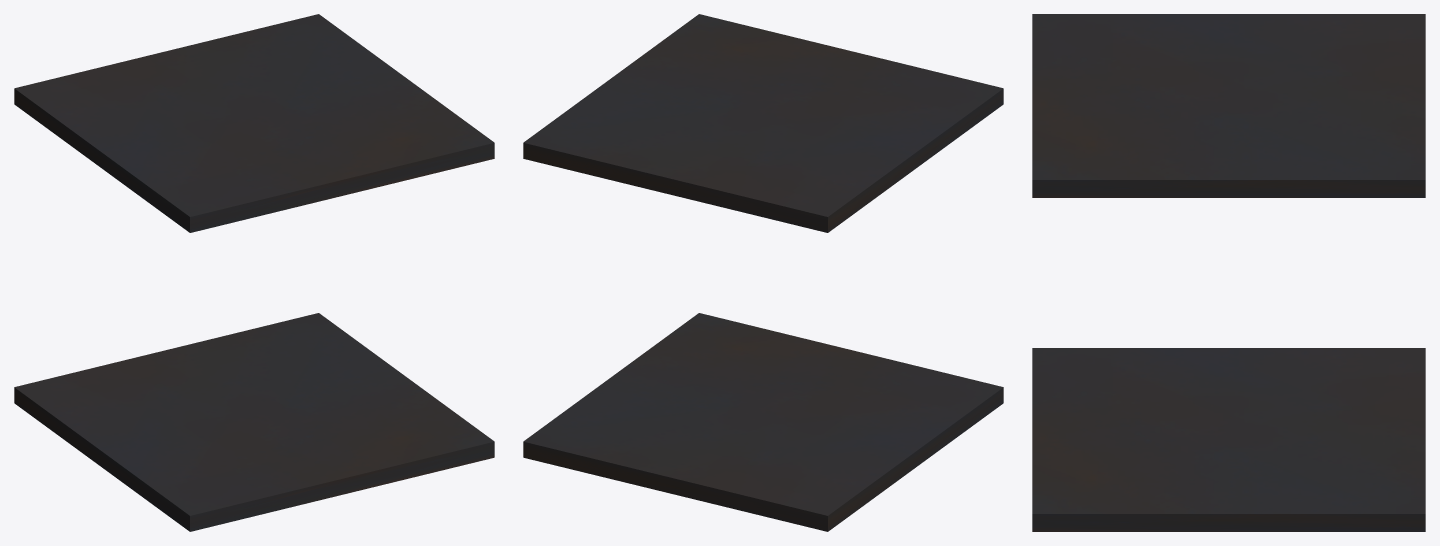
Rendered from rustycage_topbot.obj.
3 renders of one model, left to right at view 1: azimuth 30°, elevation 25°; view 2: azimuth 150°, elevation 25°; view 3: azimuth 270°, elevation 25°, orthographic. The views are drawn at different scales.
Visible parts, largest first — view 1: polySurface44; view 2: polySurface44; view 3: polySurface44.
Part boxes in pixels (x1,y1,x2,y2): polySurface44: [14, 14, 494, 531]; polySurface44: [523, 14, 1003, 531]; polySurface44: [1032, 14, 1425, 531].
Bounding box in the file's own units: 4.27 × 4.21 × 4.27.
1 material, 1 textured.
